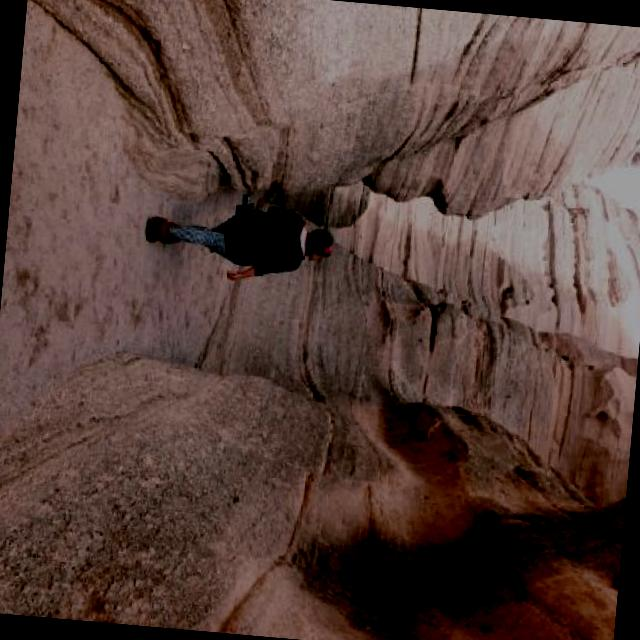Person: (154, 162, 333, 296)
